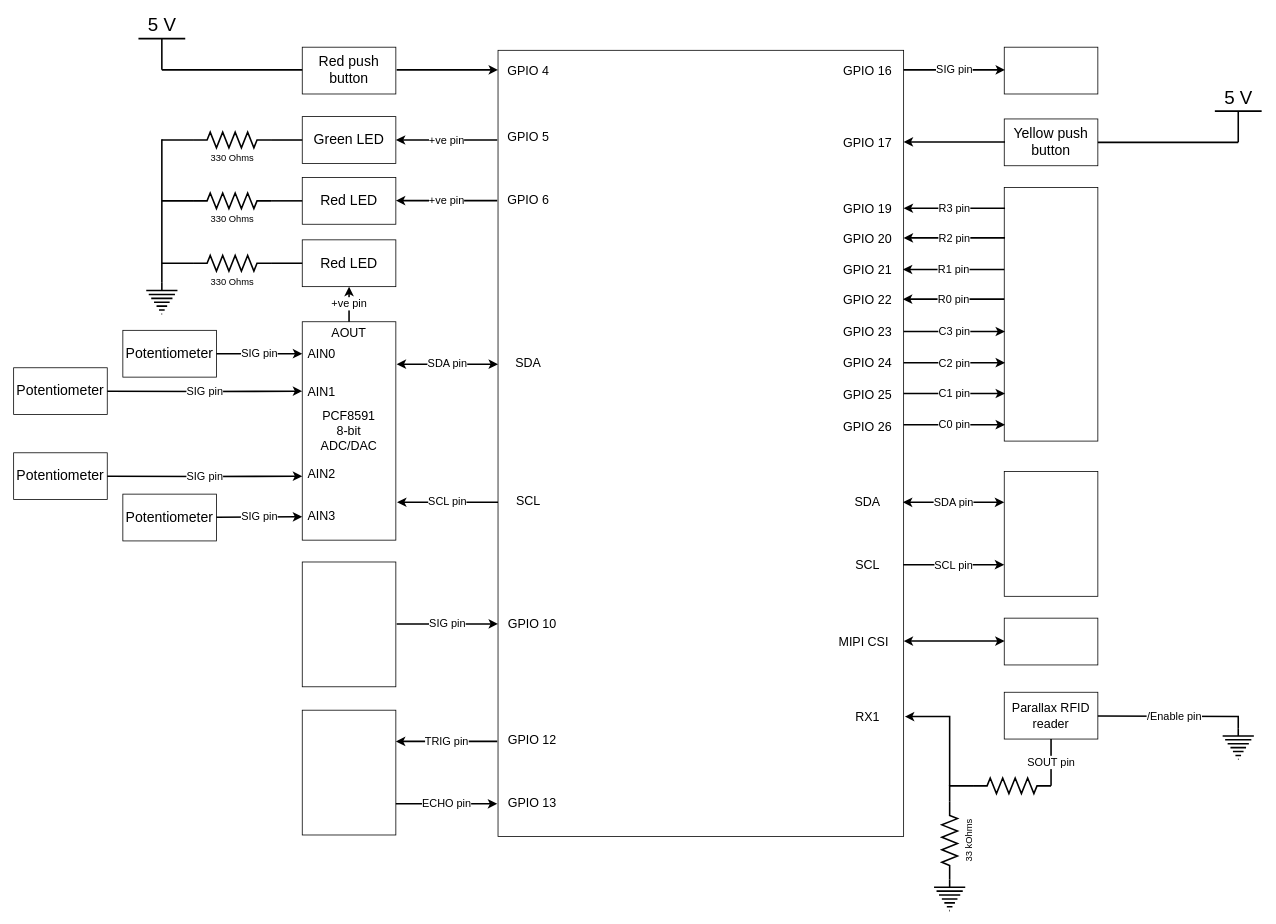
Some shapes in this 1276 by 924 pixel diagram are drawn without their labels. Each missing label, with the box of its shape:
16x2 LCD display + I2C interface: (1003, 471, 1098, 596)
22 kOhms: (972, 777, 1051, 794)
4x4 membrane keypad: (1003, 187, 1098, 441)
Buzzer: (1003, 46, 1098, 94)
Camera module: (1003, 617, 1098, 665)
DHT11 Temperature and Humidity senor: (301, 561, 396, 687)
HC-SR04 Ultrasonic Senor: (301, 709, 396, 835)
Raspberry Pi model 4B: (497, 50, 904, 837)
